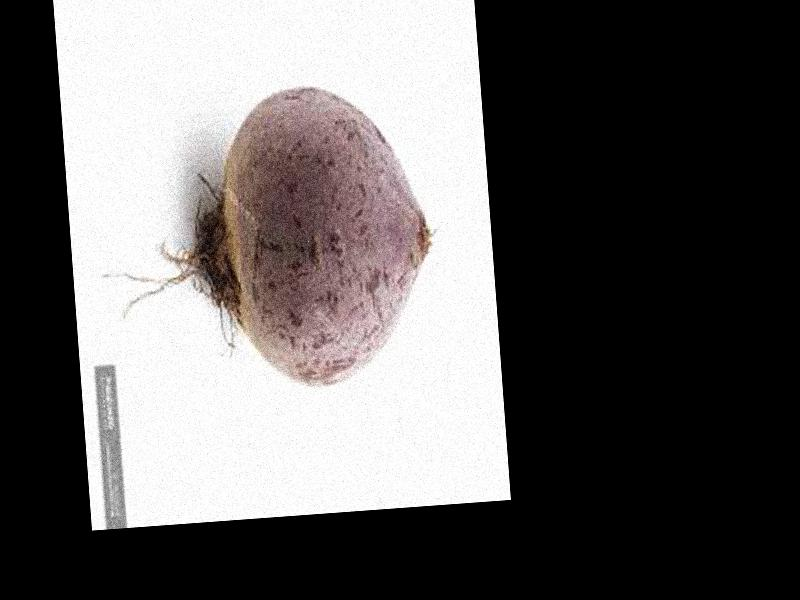Beet: (88, 77, 443, 404)
